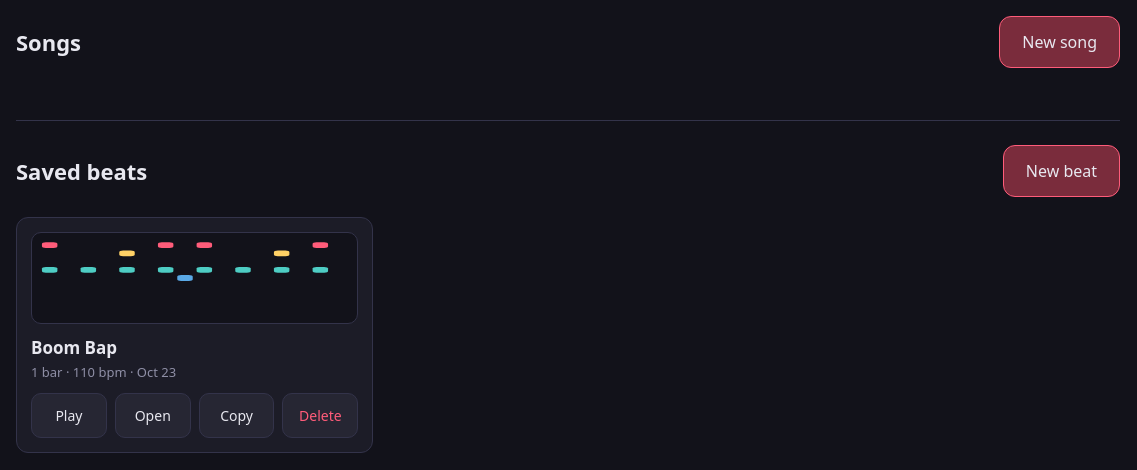
Scenario: a saved beat › deletes when the question is answered yes
Click the button with aria-label "Delete Boom Bap": [320, 416] box [282,393,358,438]
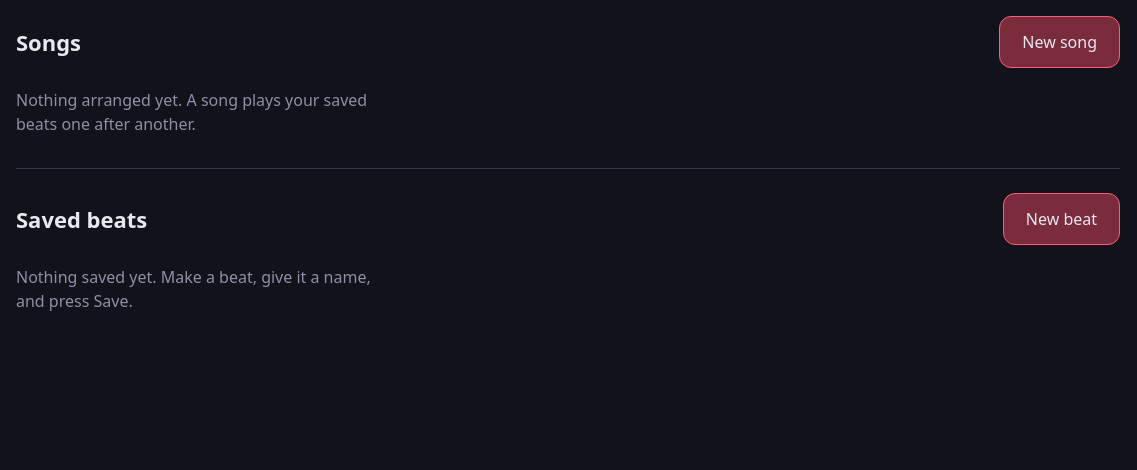
Result: the heading "Boom Bap" is gone
